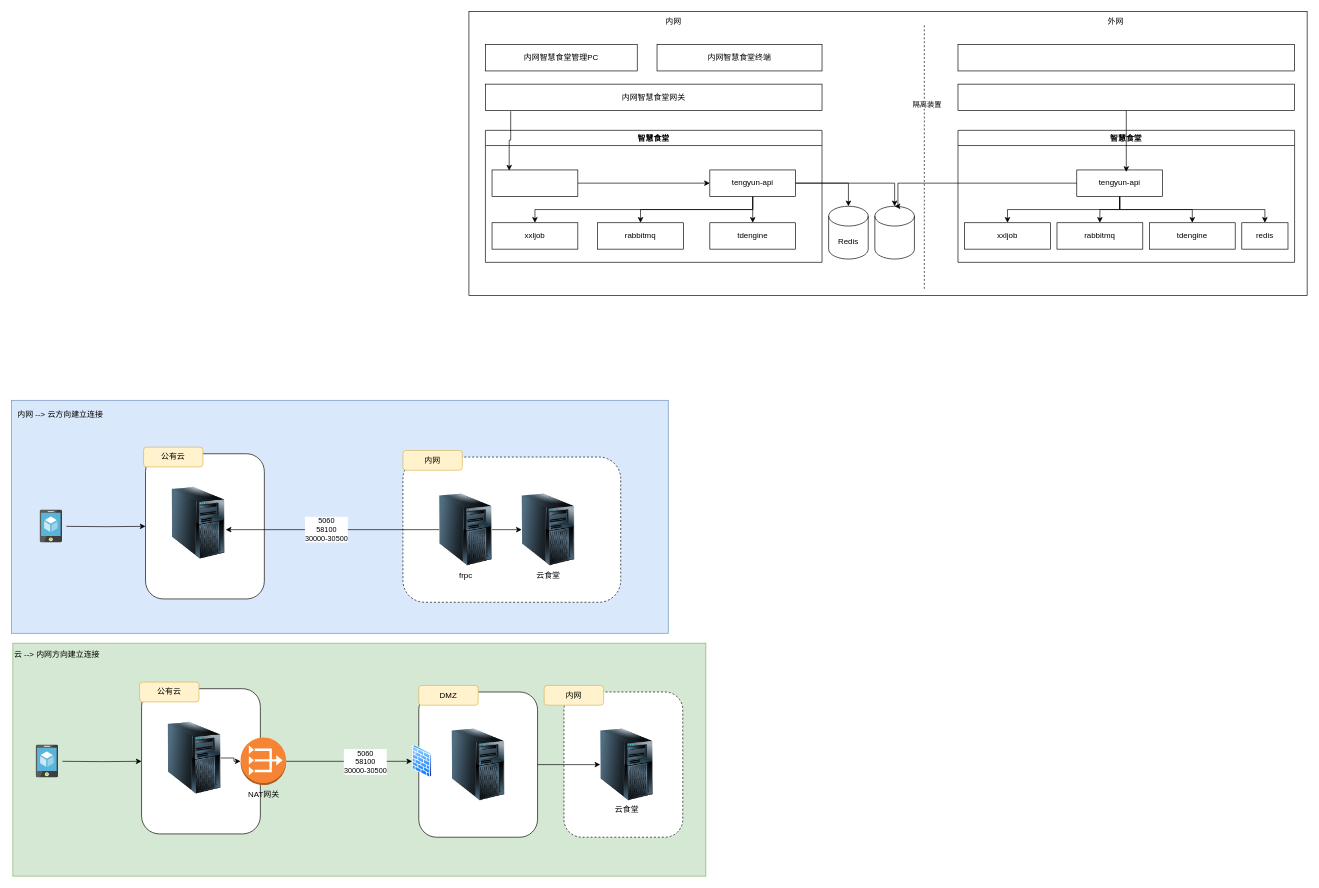
Image size: 1319x888. Some labels were removed from this diagram. Each missing label, with the centre of its shape:
"front-web" belongs at (x=534, y=182).
"frps" belongs at (x=198, y=522).
"NAT网关白名单 内网端口映射" belongs at (x=422, y=760).
"PorlaDB" belongs at (x=894, y=232).
"代理服务" belongs at (x=477, y=764).
"代理网关" belongs at (x=194, y=757).
"外网智慧食堂网关" belongs at (x=1126, y=97).
"对接第三方服务" belongs at (x=1126, y=57).
